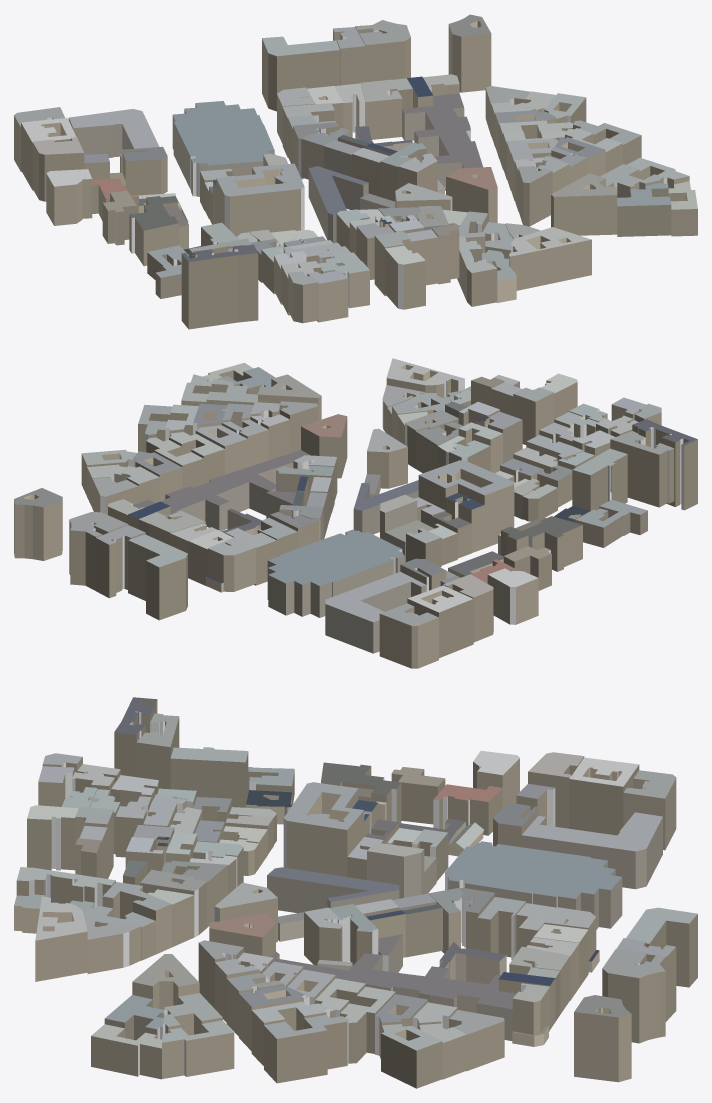
3 views of the same model, one above another, from view 1: azimuth 30°, elevation 25°; view 2: azimuth 150°, elevation 25°; view 3: azimuth 270°, elevation 25° (orthographic). The views are drawn at different scales.
Parts seen in each view (by area): view 1: tuile; view 2: tuile; view 3: tuile.
Part boxes in pixels (x1=…): tuile: x1=14, y1=14, x2=697, y2=329; tuile: x1=14, y1=358, x2=697, y2=668; tuile: x1=14, y1=697, x2=697, y2=1088.
Bounding box in the file's own units: 280 × 45.1 × 276.
